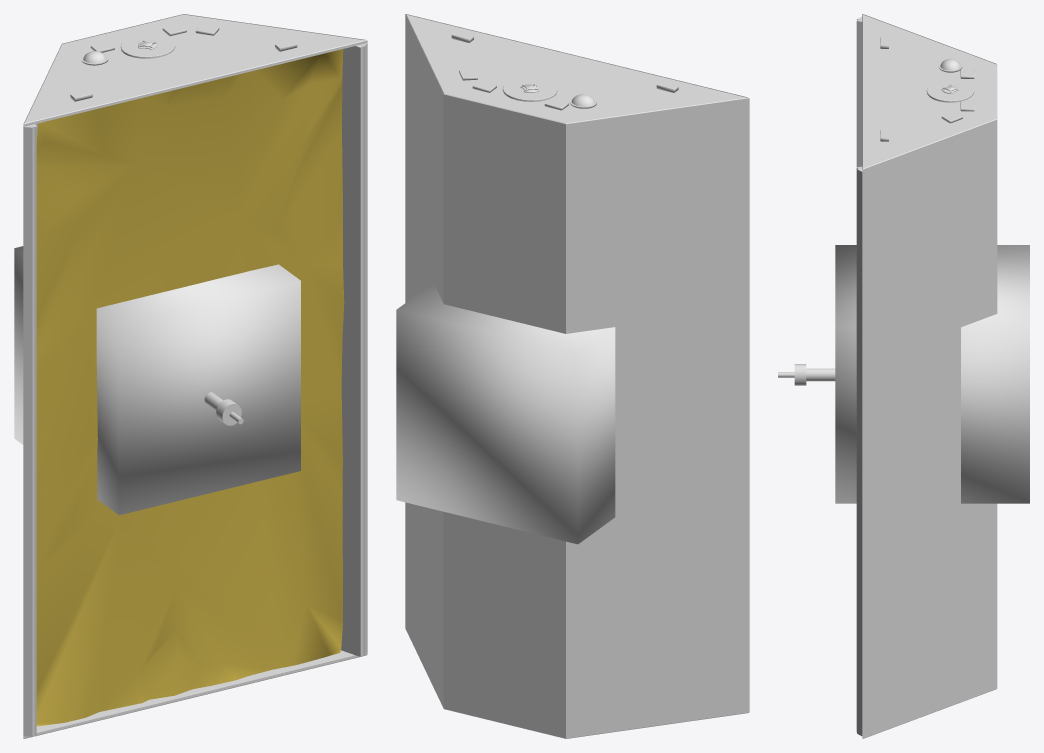
File: Gravity Recovery and Climate Experiment (GRACE) (A).glb
The picture shows the model from 3 angles, left to right: view 1: azimuth 30°, elevation 25°; view 2: azimuth 150°, elevation 25°; view 3: azimuth 270°, elevation 25°; orthographic projection. The views are drawn at different scales.
Visible parts, largest first — view 1: foil_silver, tex_01, _root; view 2: shiny_panel, _root, tex_01; view 3: shiny_panel, tex_01, _root.
Part boxes in pixels (x1,y1,x2,y2): foil_silver: [36, 49, 344, 726]; tex_01: [23, 14, 367, 738]; _root: [14, 246, 300, 515]; shiny_panel: [405, 17, 749, 735]; _root: [396, 283, 615, 544]; tex_01: [405, 14, 749, 738]; shiny_panel: [862, 122, 997, 736]; tex_01: [778, 14, 997, 738]; _root: [835, 245, 1029, 503].
Bounding box in the file's own units: 1.89 × 3.29 × 1.3.
